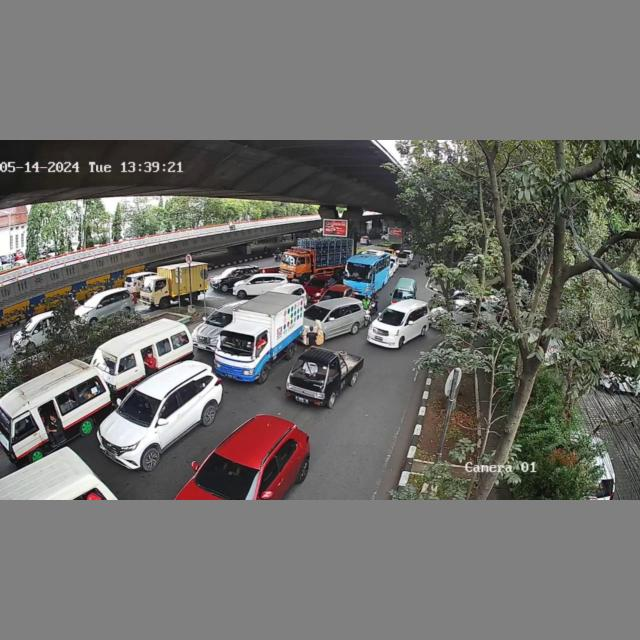windshield: (196, 454, 260, 496), (117, 390, 161, 425), (219, 330, 267, 357), (288, 358, 329, 381), (90, 347, 120, 374), (375, 308, 407, 324), (205, 309, 231, 324), (305, 304, 326, 322)
